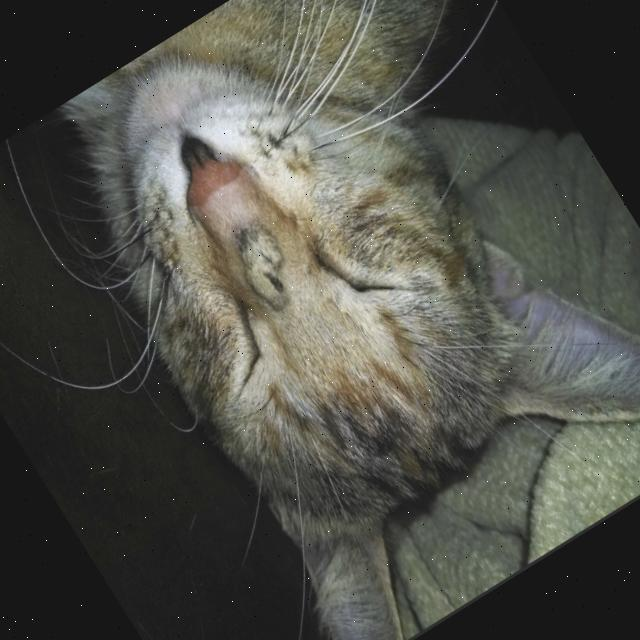cat-dermatitis: (218, 213, 310, 320)
